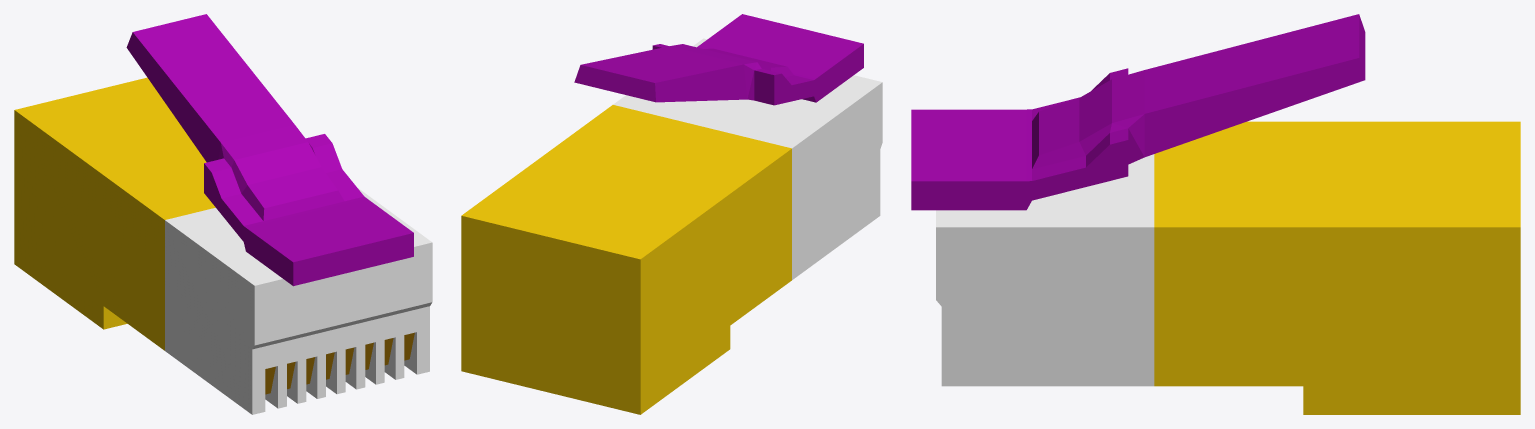
Rendered from sitovyKabel-connector.fbx.
3 renders of one model, left to right at view 1: azimuth 30°, elevation 25°; view 2: azimuth 150°, elevation 25°; view 3: azimuth 270°, elevation 25°, orthographic. The views are drawn at different scales.
Visible parts, largest first — view 1: Cube; view 2: Cube; view 3: Cube.
Boxes of the visible parts, bbox=[...] form: Cube: bbox=[14, 14, 432, 414]; Cube: bbox=[461, 14, 882, 414]; Cube: bbox=[911, 14, 1520, 414].
Size of the model in its own units: 0.9344 by 1.35 by 2.28.
